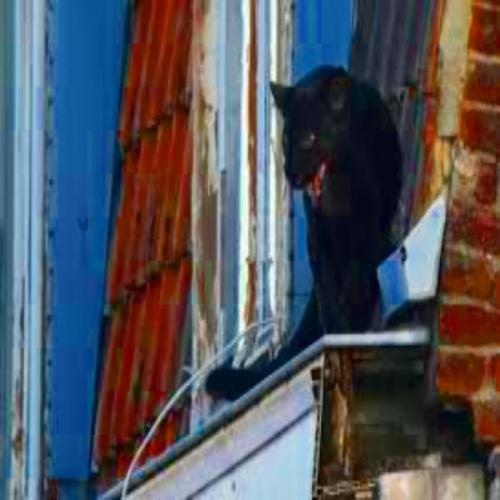panther-endangered: (206, 67, 402, 403)
